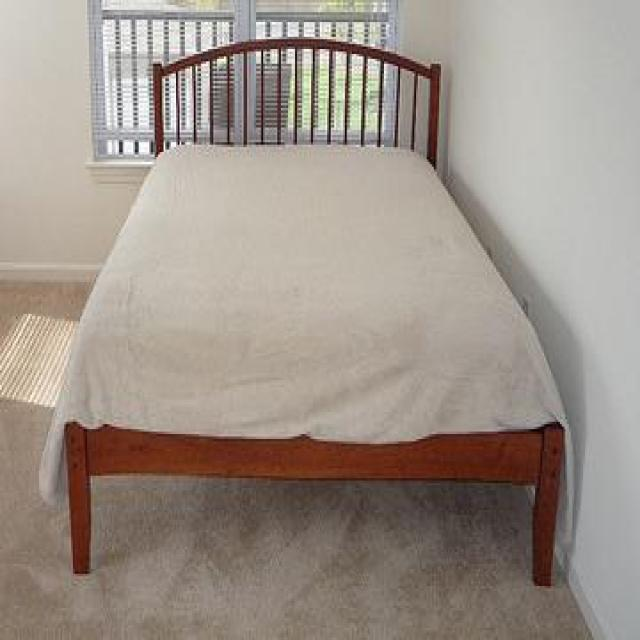bed: (59, 36, 564, 588)
